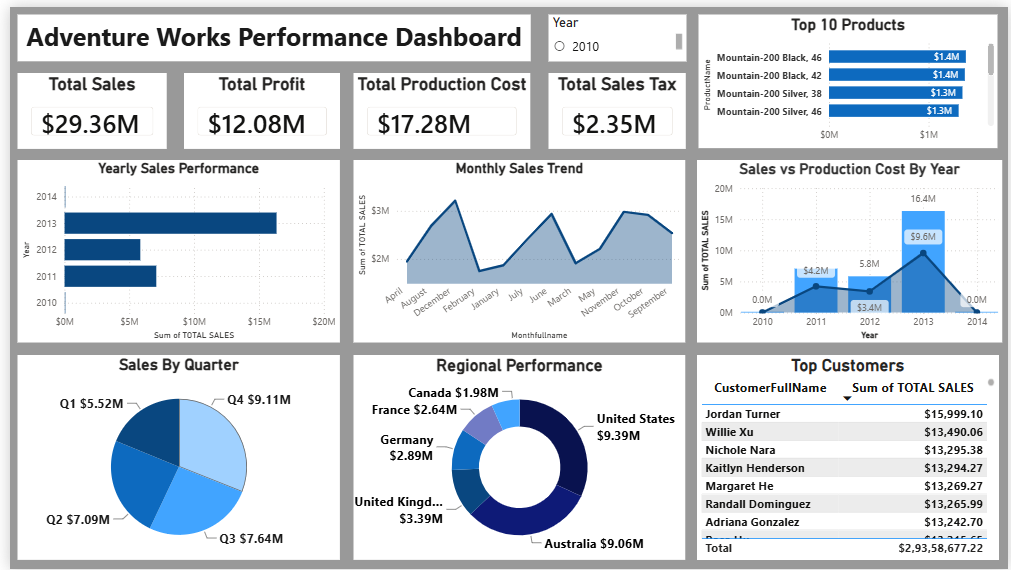

This screenshot's page, from the dashboard's own definition file:
{"tool":"powerbi","page":{"name":"Dashboard","canvas":[1280,720],"ordinal":8},"visuals":[{"type":"textbox","box":[9,9,658.2,59.7],"z":0},{"type":"listSlicer","fields":{"Values":["SALES.Year"]},"box":[689.6,9,176.1,59.7],"z":1000},{"type":"cardVisual","title":"Total Sales","fields":{"Data":["Sum(SALES.TOTAL SALES)"]},"box":[8.8,83.8,191.2,97.5],"z":2000},{"type":"cardVisual","title":"Total Profit","fields":{"Data":["Sum(SALES.Profit)"]},"box":[222.4,85.1,200,97],"z":3000},{"type":"cardVisual","title":"Total Production Cost","fields":{"Data":["Sum(SALES.ProductionCost)"]},"box":[440.3,85.1,226.9,97],"z":4000},{"type":"cardVisual","title":"Total Sales Tax","fields":{"Data":["Sum(SALES.TaxAmt)"]},"box":[689.6,85.1,176.1,97],"z":5000},{"type":"clusteredBarChart","title":"Yearly Sales Performance","fields":{"Y":["Sum(SALES.Calc_SalesAmount)"],"Category":["SALES.Year"]},"box":[9,197,413.4,234.3],"z":6000},{"type":"lineChart","title":"Monthly Sales Trend","fields":{"Category":["SALES.Monthfullname"],"Y":["Sum(SALES.Calc_SalesAmount)"]},"box":[440.3,197,425.4,234.3],"z":7000},{"type":"pieChart","title":"Sales By Quarter","fields":{"Category":["SALES.Quarter"],"Y":["Sum(SALES.Calc_SalesAmount)"]},"box":[9,446.3,413.4,262.7],"z":8000},{"type":"lineClusteredColumnComboChart","title":"Sales vs Production Cost By Year","fields":{"Category":["SALES.Year"],"Y":["Sum(SALES.Calc_SalesAmount)"],"Y2":["Sum(SALES.ProductionCost)"]},"box":[880.6,197,391,234.3],"z":9000},{"type":"donutChart","title":"Regional Performance","fields":{"Category":["DimSalesTerritory.SalesTerritoryCountry"],"Y":["Sum(SALES.Calc_SalesAmount)"]},"box":[440.3,446.3,425.4,262.7],"z":10000},{"type":"clusteredBarChart","title":"Top 10 Products ","fields":{"Category":["SALES.ProductName"],"Y":["Sum(SALES.Calc_SalesAmount)"]},"box":[883.6,10.4,383.6,171.6],"z":11000},{"type":"tableEx","title":"Top Customers","fields":{"Values":["SALES.CustomerFullName","Sum(SALES.Calc_SalesAmount)"]},"box":[880.6,446.3,386.6,262.7],"z":12000}]}

Visuals, with their boxes in screenshot pixels (x1, y1, x2, y2), scaled from the page's 1280x720 canvas onto the 1011x570 screenshot:
textbox: <bbox>7, 7, 527, 54</bbox>
listSlicer - SALES.Year: <bbox>545, 7, 684, 54</bbox>
"Total Sales" cardVisual: <bbox>7, 66, 158, 144</bbox>
"Total Profit" cardVisual: <bbox>176, 67, 334, 144</bbox>
"Total Production Cost" cardVisual: <bbox>348, 67, 527, 144</bbox>
"Total Sales Tax" cardVisual: <bbox>545, 67, 684, 144</bbox>
"Yearly Sales Performance" clusteredBarChart: <bbox>7, 156, 334, 341</bbox>
"Monthly Sales Trend" lineChart: <bbox>348, 156, 684, 341</bbox>
"Sales By Quarter" pieChart: <bbox>7, 353, 334, 561</bbox>
"Sales vs Production Cost By Year" lineClusteredColumnComboChart: <bbox>696, 156, 1004, 341</bbox>
"Regional Performance" donutChart: <bbox>348, 353, 684, 561</bbox>
"Top 10 Products " clusteredBarChart: <bbox>698, 8, 1001, 144</bbox>
"Top Customers" tableEx: <bbox>696, 353, 1001, 561</bbox>
